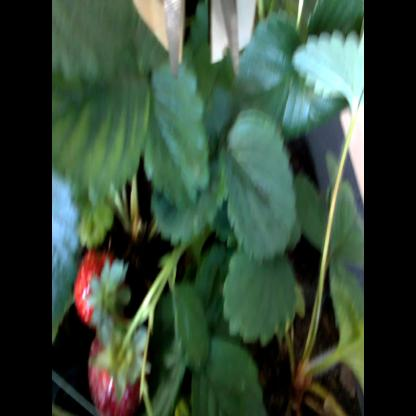ripe: (81, 324, 166, 414), (64, 249, 118, 326)
